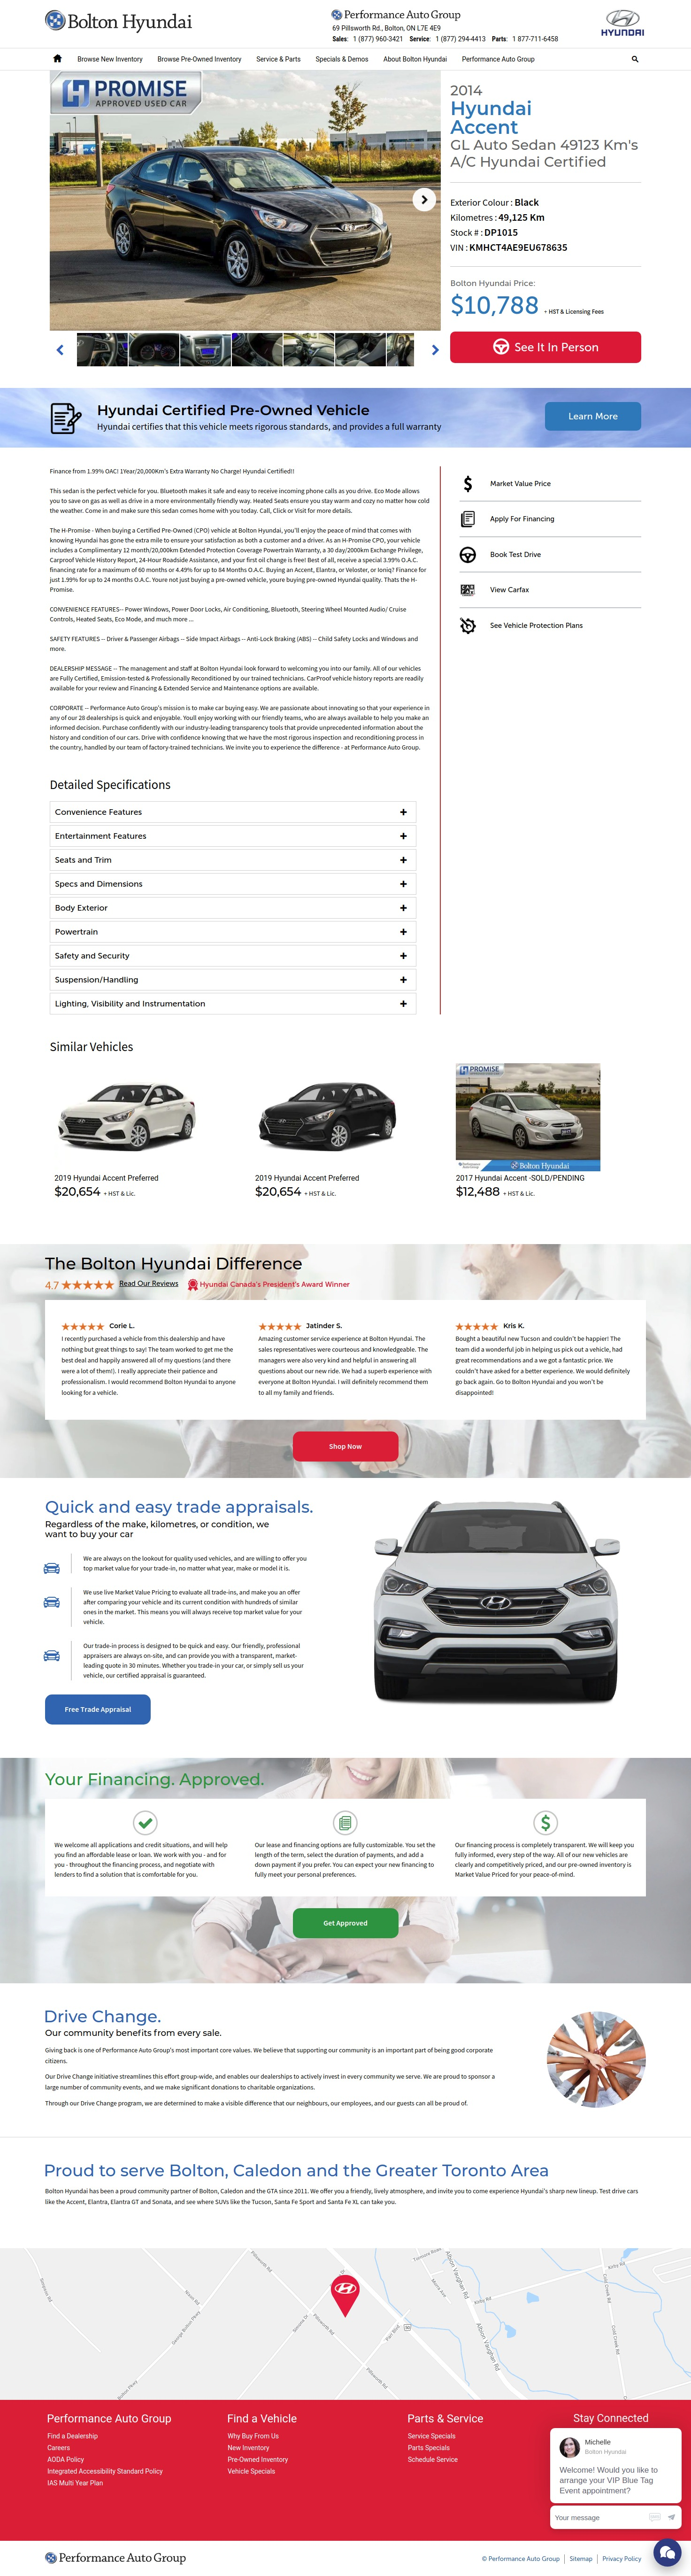car: (432, 345, 438, 355)
